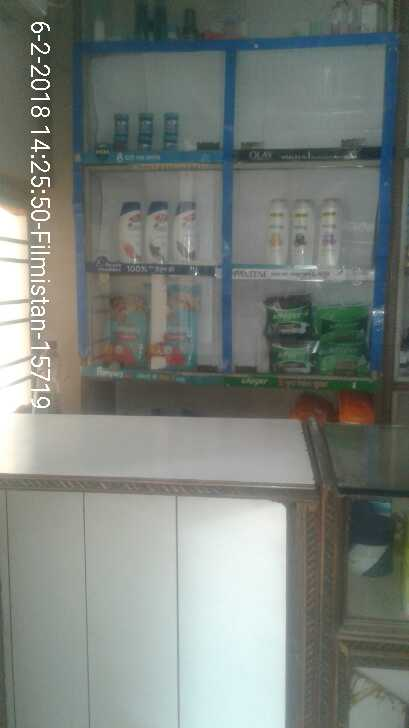vicks: (116, 106, 185, 155)
